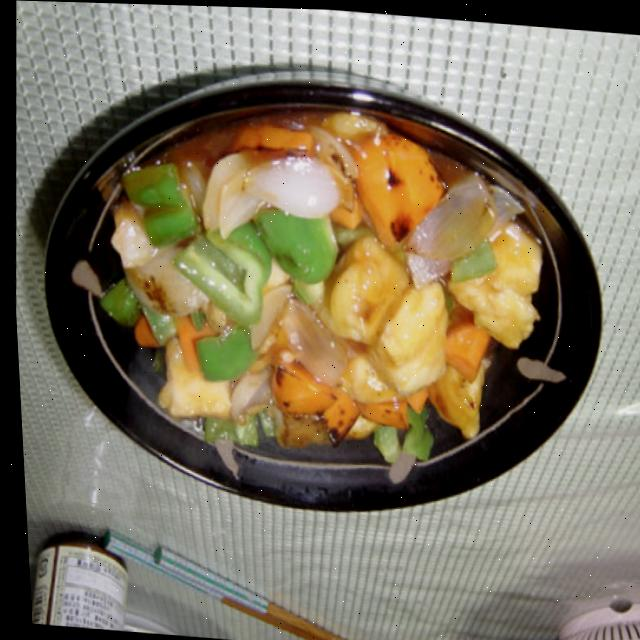猪肉菜式: (50, 61, 563, 502)
